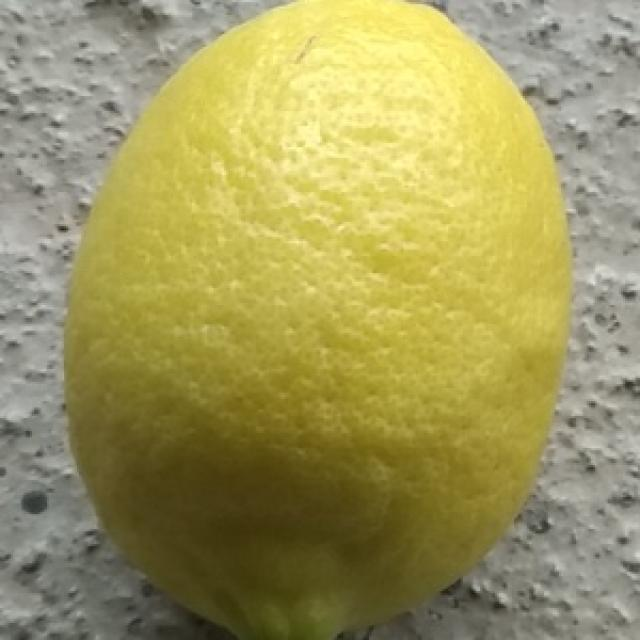Ripe: (61, 0, 582, 640)
